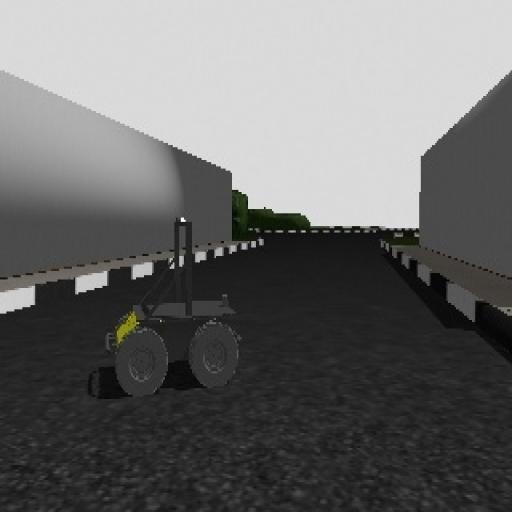huskya200: (90, 211, 251, 425)
